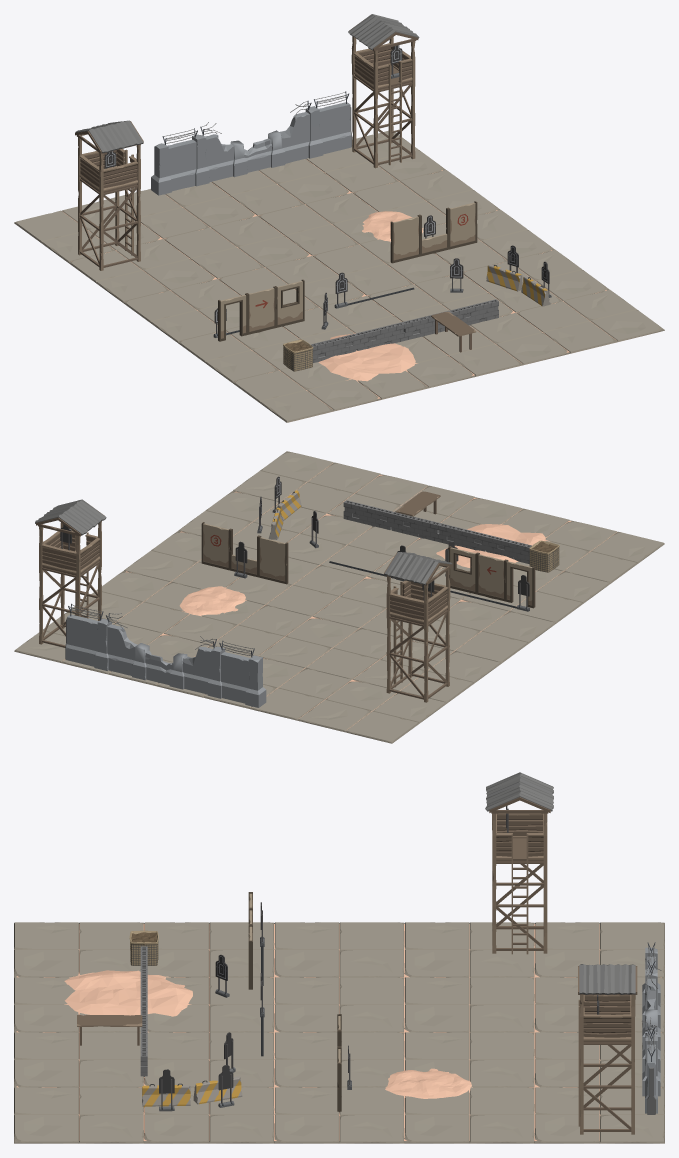
The model's file is shootingRange.glb.
3 renders of one model, top to bottom at view 1: azimuth 30°, elevation 25°; view 2: azimuth 150°, elevation 25°; view 3: azimuth 270°, elevation 25°, orthographic. The views are drawn at different scales.
Parts seen in each view (by area): view 1: SM_Prop_GuardTower_01.002, SM_Prop_GuardTower_01.001, SM_Env_Concrete_Base_01.010, SM_Env_Concrete_Base_01.007, SM_Env_Concrete_Base_01.014, SM_Env_Concrete_Base_01.004, SM_Env_Concrete_Base_01.016, SM_Env_Concrete_Base_01.008, SM_Env_Concrete_Base_01.017, SM_Env_Concrete_Base_01.018, SM_Env_Concrete_Base_01.015, SM_Env_Concrete_Base_01.005 (+34 smaller); view 2: SM_Prop_GuardTower_01.001, SM_Prop_GuardTower_01.002, SM_Env_Concrete_Base_01.020, SM_Env_Concrete_Base_01.007, SM_Env_Concrete_Base_01.010, SM_Env_Concrete_Base_01.015, SM_Env_Concrete_Base_01.001, SM_Env_Concrete_Base_01.008, SM_Env_Concrete_Base_01.014, SM_Env_Concrete_Base_01.012, SM_Env_Concrete_Base_01.005, SM_Env_Concrete_Base_01.016 (+35 smaller); view 3: SM_Prop_GuardTower_01.001, SM_Env_Concrete_Base_01.010, SM_Env_Concrete_Base_01.007, SM_Env_Concrete_Base_01.015, SM_Env_Concrete_Base_01.011, SM_Env_Concrete_Base_01.006, SM_Env_Concrete_Base_01.004, SM_Prop_GuardTower_01.002, SM_Env_Concrete_Base_01.012, SM_Env_Concrete_Base_01.005, SM_Env_Concrete_Base_01.016, SM_Env_Concrete_Base_01.014 (+18 smaller).
Part boxes in pixels (x1,y1,x2,y2): SM_Prop_GuardTower_01.002: (348,14,419,168); SM_Prop_GuardTower_01.001: (75,120,143,270); SM_Env_Concrete_Base_01.010: (516,290,664,353); SM_Env_Concrete_Base_01.007: (163,216,308,278); SM_Env_Concrete_Base_01.014: (232,362,381,422); SM_Env_Concrete_Base_01.004: (423,313,570,376); SM_Env_Concrete_Base_01.016: (68,239,214,302); SM_Env_Concrete_Base_01.008: (258,193,377,255); SM_Env_Concrete_Base_01.017: (110,182,254,238); SM_Env_Concrete_Base_01.018: (212,159,348,215); SM_Env_Concrete_Base_01.015: (123,279,239,342); SM_Env_Concrete_Base_01.005: (313,239,450,295); SM_Prop_GuardTower_01.001: (384,552,452,702); SM_Prop_GuardTower_01.002: (35,499,106,647); SM_Env_Concrete_Base_01.020: (297,681,446,743); SM_Env_Concrete_Base_01.007: (258,618,404,679); SM_Env_Concrete_Base_01.010: (233,451,380,513); SM_Env_Concrete_Base_01.015: (412,601,555,663); SM_Env_Concrete_Base_01.001: (288,515,419,576); SM_Env_Concrete_Base_01.008: (164,600,311,656); SM_Env_Concrete_Base_01.014: (545,520,664,583); SM_Env_Concrete_Base_01.012: (71,571,200,633); SM_Env_Concrete_Base_01.005: (226,557,365,616); SM_Env_Concrete_Base_01.016: (353,641,500,703); SM_Prop_GuardTower_01.001: (485,772,553,954); SM_Env_Concrete_Base_01.010: (14,1087,144,1143); SM_Env_Concrete_Base_01.007: (404,977,534,1032); SM_Env_Concrete_Base_01.015: (274,922,404,977); SM_Env_Concrete_Base_01.011: (274,1087,404,1143); SM_Env_Concrete_Base_01.006: (274,977,404,1032); SM_Env_Concrete_Base_01.004: (14,1032,143,1087); SM_Prop_GuardTower_01.002: (578,964,637,1134); SM_Env_Concrete_Base_01.012: (404,1087,534,1143); SM_Env_Concrete_Base_01.005: (274,1032,404,1087); SM_Env_Concrete_Base_01.016: (404,922,534,977); SM_Env_Concrete_Base_01.014: (14,922,144,977).
Bounding box in the file's own units: 20 × 6.99 × 25.
1 material, 1 textured.
